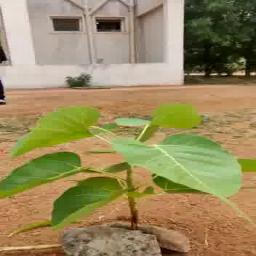LEAVS: (5, 98, 255, 228)
